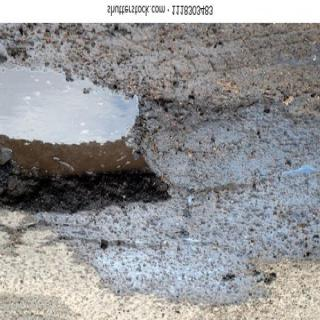pothole: (0, 68, 170, 216)
